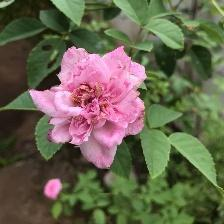rose: (26, 45, 147, 171)
